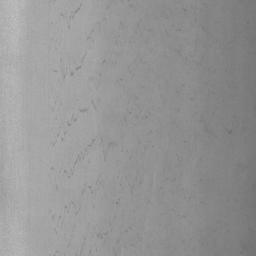Silk spot: (73, 139, 96, 168), (69, 3, 82, 20), (81, 184, 93, 195), (70, 65, 81, 76), (67, 114, 77, 126)
